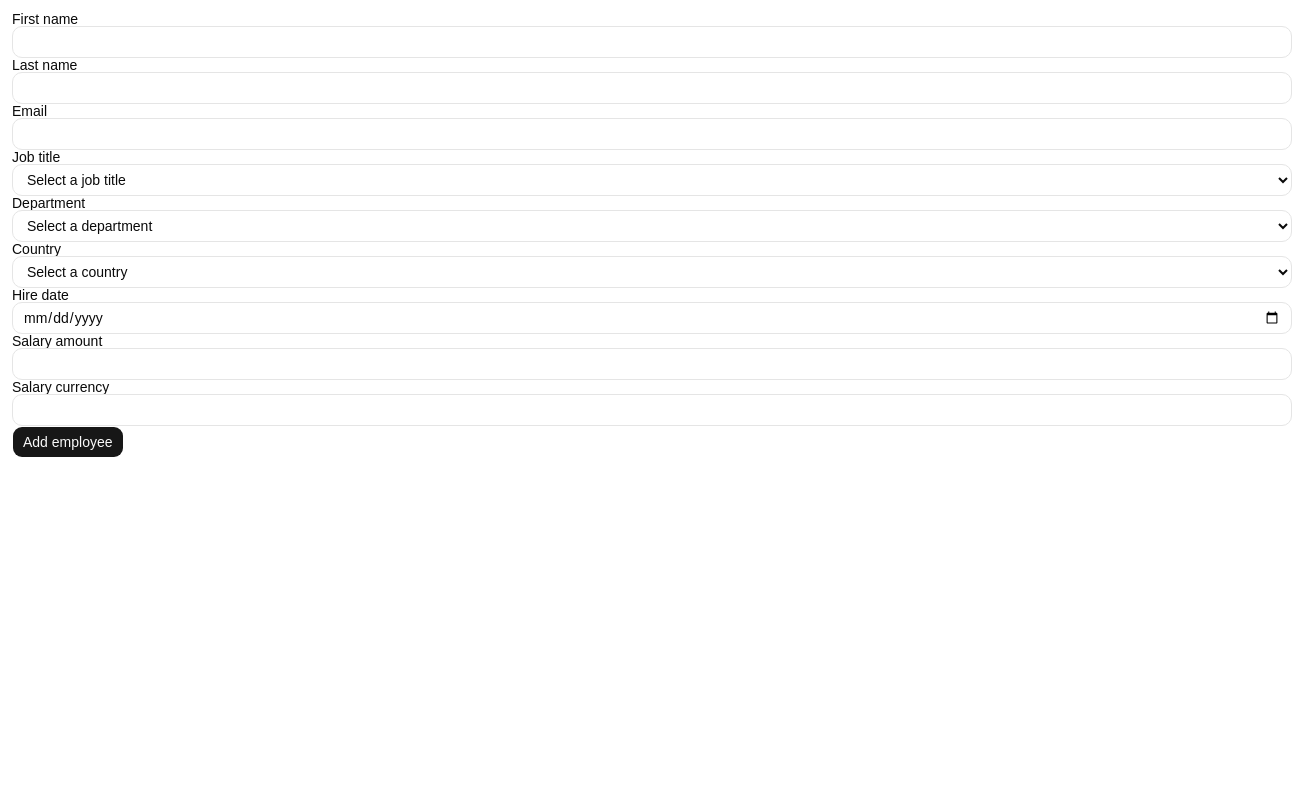
Test: employee create/edit form › summarizes every invalid field in one place after a failed submit
Click the button "Add employee".
click(68, 442)  # box [12, 426, 124, 458]
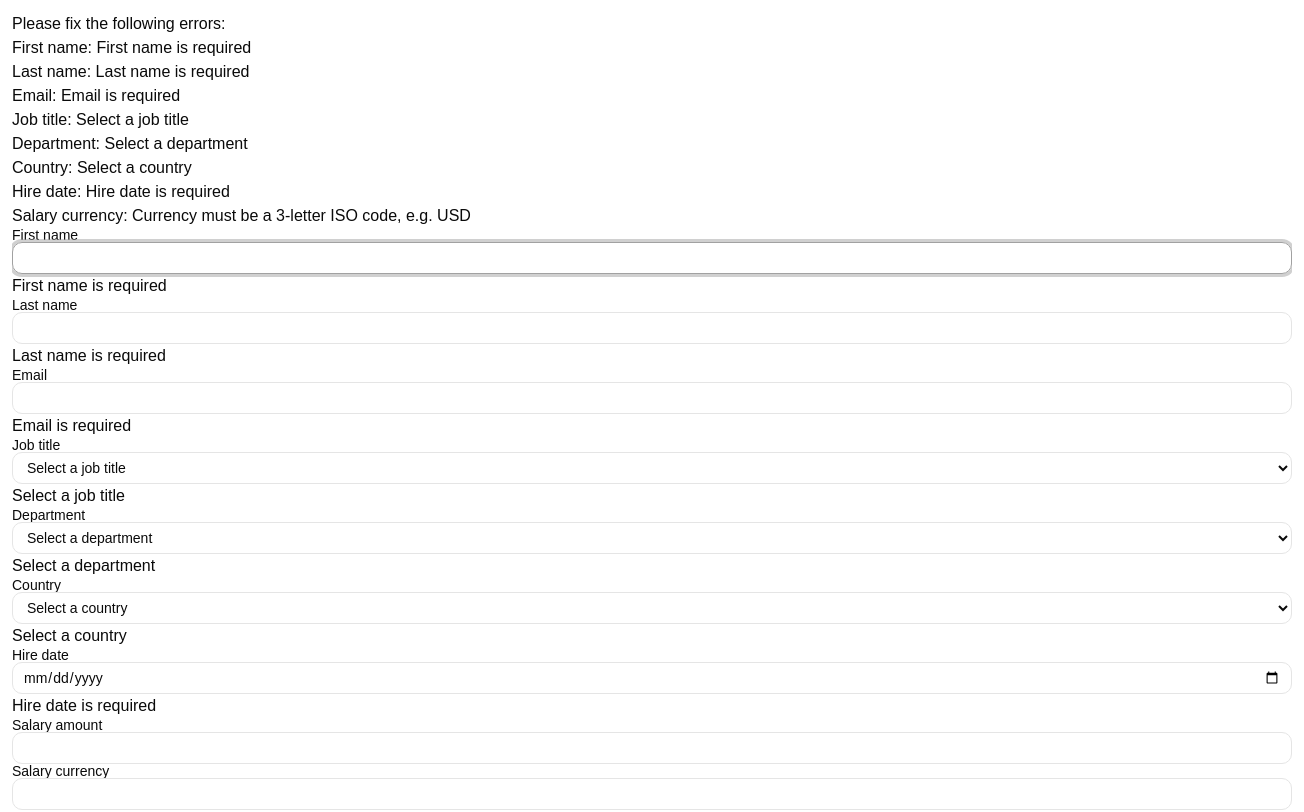
expect the list item "First name: First name is required" is shown: met, box [12, 39, 251, 56]
expect the list item "Last name: Last name is required" is shown: met, box [12, 63, 250, 80]
expect the list item "Email: Email is required" is shown: met, box [12, 87, 180, 104]
